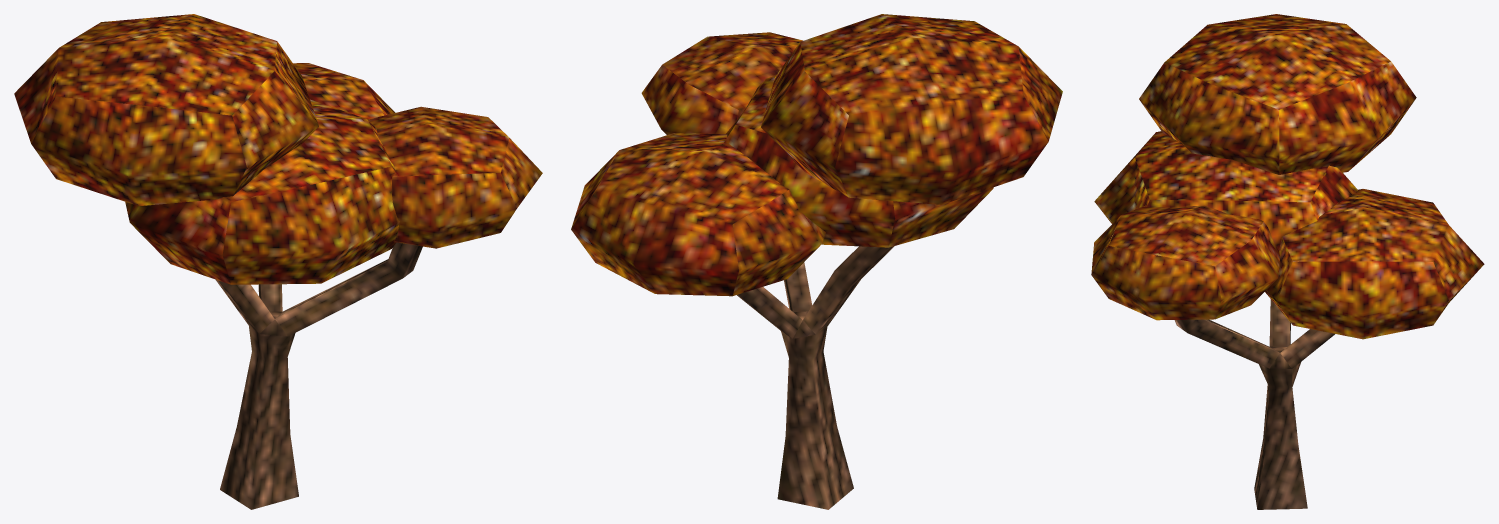
The model's file is red tree  (1).fbx.
3 views of the same model, side by side, from view 1: azimuth 30°, elevation 25°; view 2: azimuth 150°, elevation 25°; view 3: azimuth 270°, elevation 25° (orthographic). The views are drawn at different scales.
Parts seen in each view (by area): view 1: Plane.001; view 2: Plane.001; view 3: Plane.001.
Boxes of the visible parts, <box> form: Plane.001: <box>14,14,542,509</box>; Plane.001: <box>571,14,1062,509</box>; Plane.001: <box>1091,14,1484,509</box>.
Size of the model in its own units: 452 by 470 by 397.
